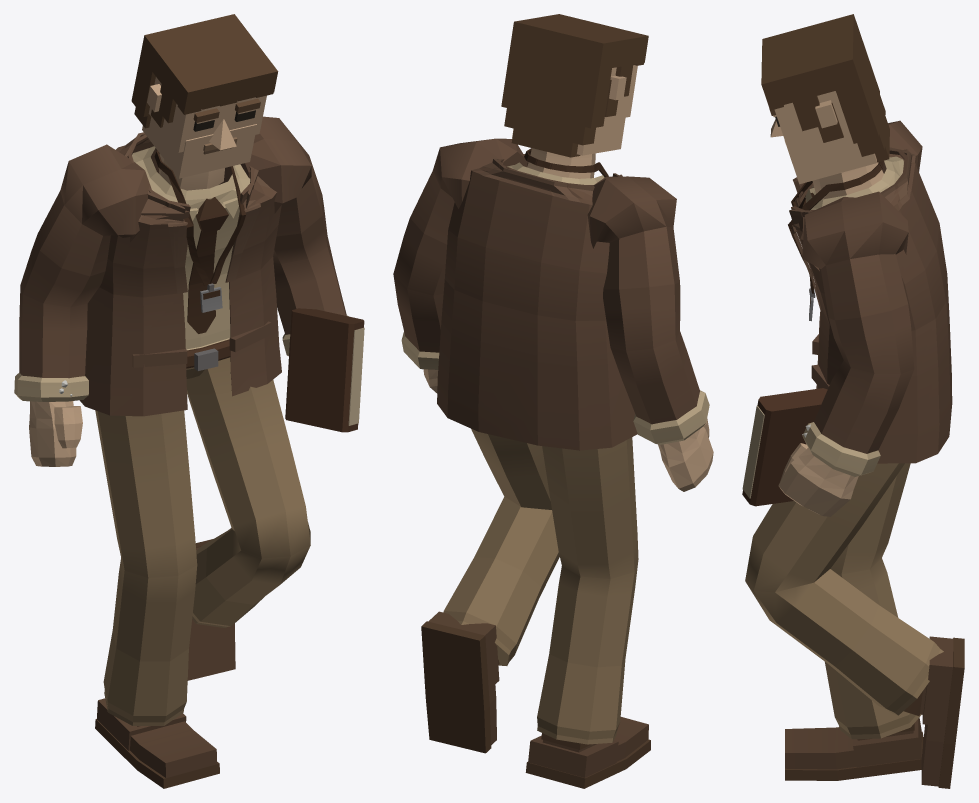
The model's file is school-teacher-8b8bfc__walk6.glb.
The picture shows the model from 3 angles, left to right: view 1: azimuth 30°, elevation 25°; view 2: azimuth 150°, elevation 25°; view 3: azimuth 270°, elevation 25°; orthographic projection. The views are drawn at different scales.
Parts seen in each view (by area): view 1: school-teacher-8b8bfc__walk6; view 2: school-teacher-8b8bfc__walk6; view 3: school-teacher-8b8bfc__walk6.
Part boxes in pixels (box(x1,y1,x2,y2)): school-teacher-8b8bfc__walk6: box(14, 14, 364, 788); school-teacher-8b8bfc__walk6: box(393, 14, 713, 788); school-teacher-8b8bfc__walk6: box(742, 14, 964, 788).
Size of the model in its own units: 0.7843 by 1.72 by 0.4629.
